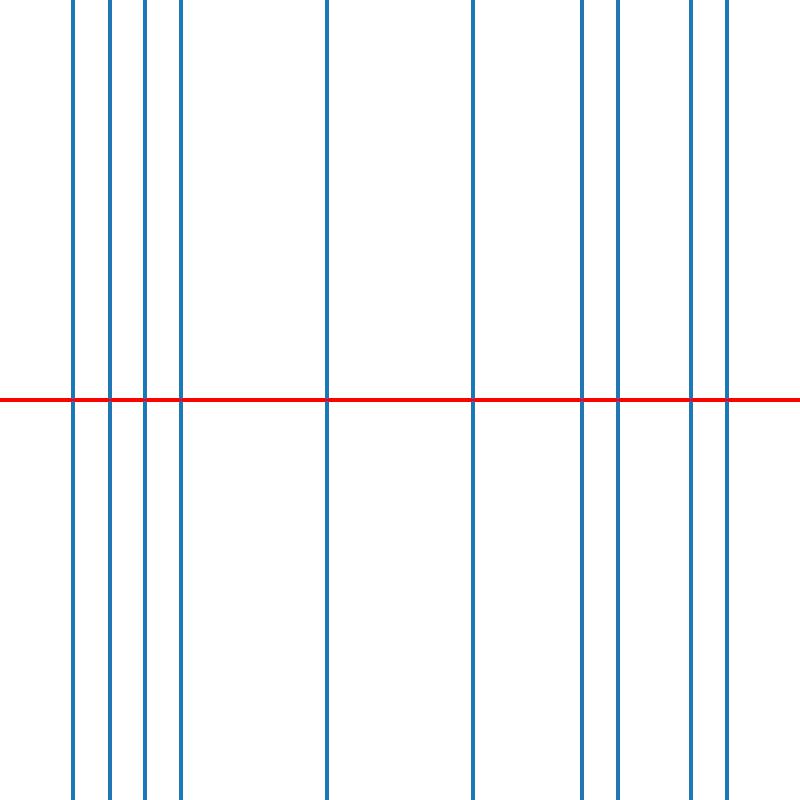root: (141, 396, 149, 404), (69, 396, 76, 404), (105, 396, 112, 404), (323, 396, 330, 404), (178, 396, 185, 404), (614, 396, 621, 404), (578, 396, 585, 404), (687, 396, 694, 404), (469, 396, 476, 404), (723, 396, 730, 404)
